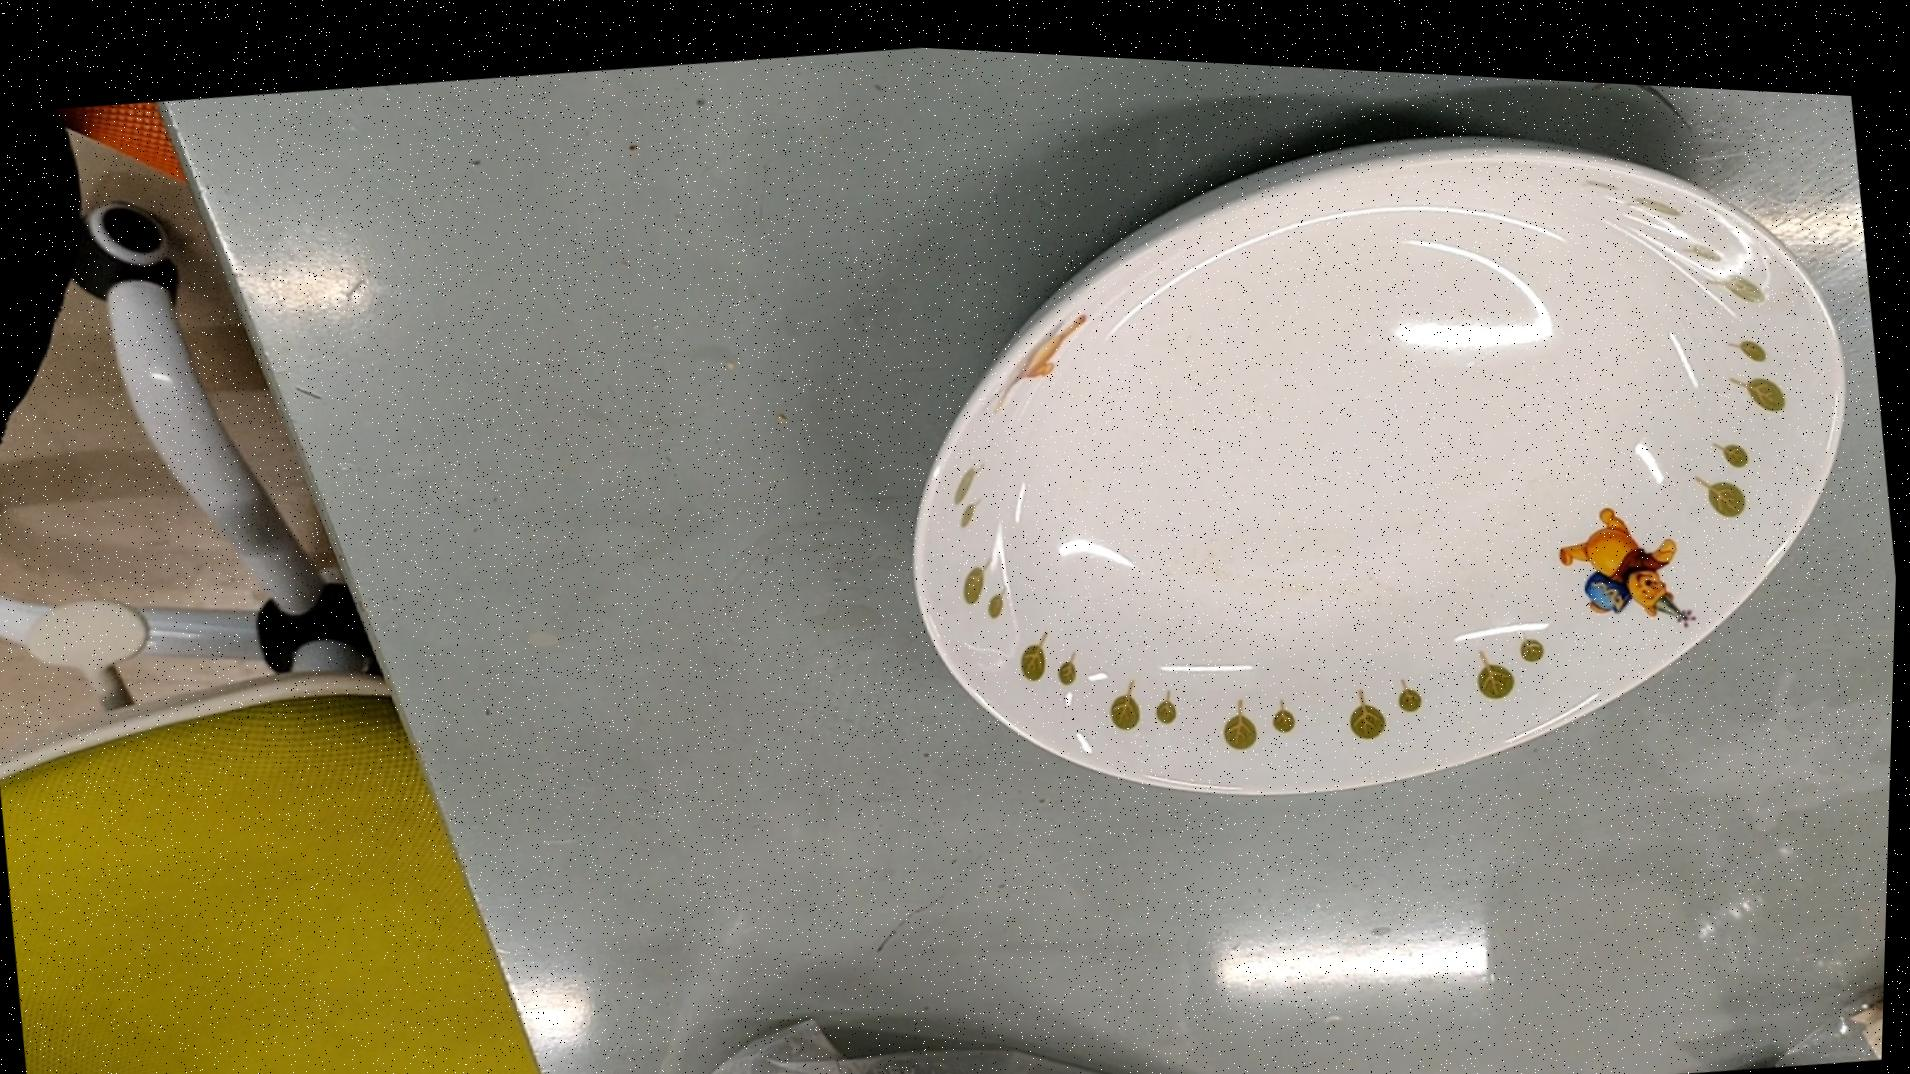plate: (866, 47, 1898, 848)
